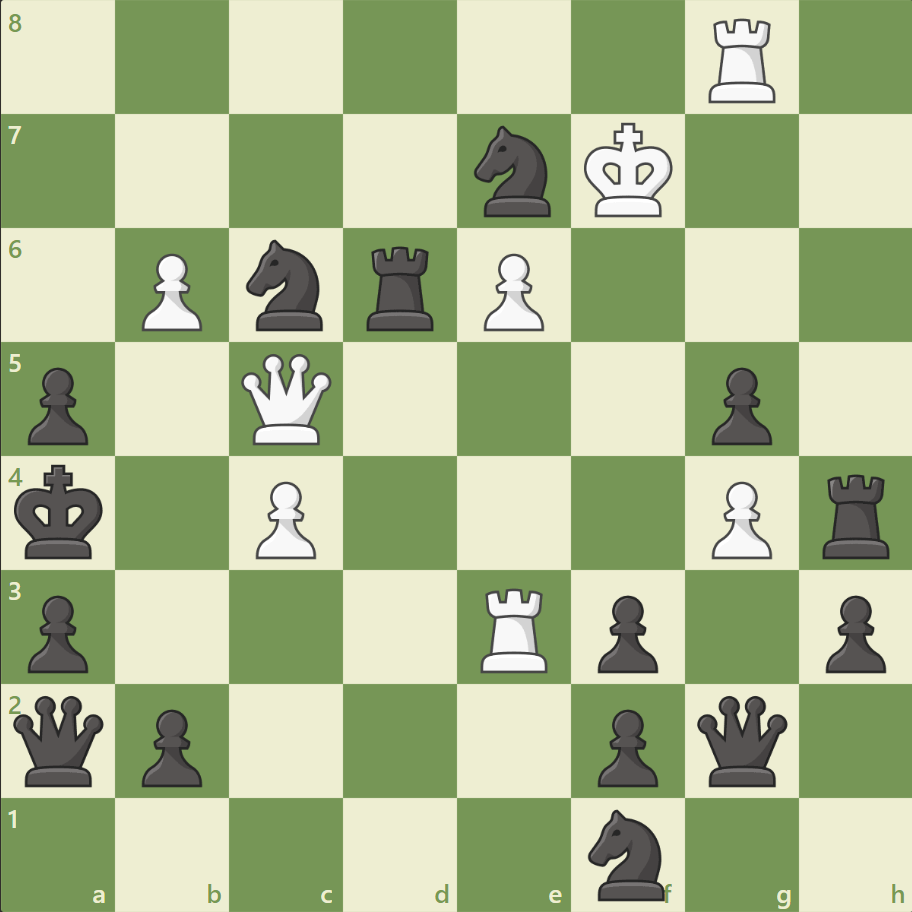K: (579, 117, 679, 225)
P: (133, 246, 208, 337), (474, 246, 549, 337), (247, 473, 322, 564), (701, 473, 776, 564)
Q: (237, 349, 336, 449)
R: (700, 12, 783, 109), (473, 579, 556, 676)
k: (11, 458, 111, 566)
n: (238, 234, 335, 337), (465, 121, 562, 223), (579, 802, 676, 904)
p: (20, 359, 95, 450), (701, 359, 776, 450), (20, 586, 95, 677), (133, 700, 208, 791), (588, 586, 662, 677), (815, 586, 889, 677), (588, 700, 662, 791)
q: (10, 690, 109, 789), (691, 690, 790, 789)
r: (814, 466, 897, 563), (360, 239, 442, 336)
